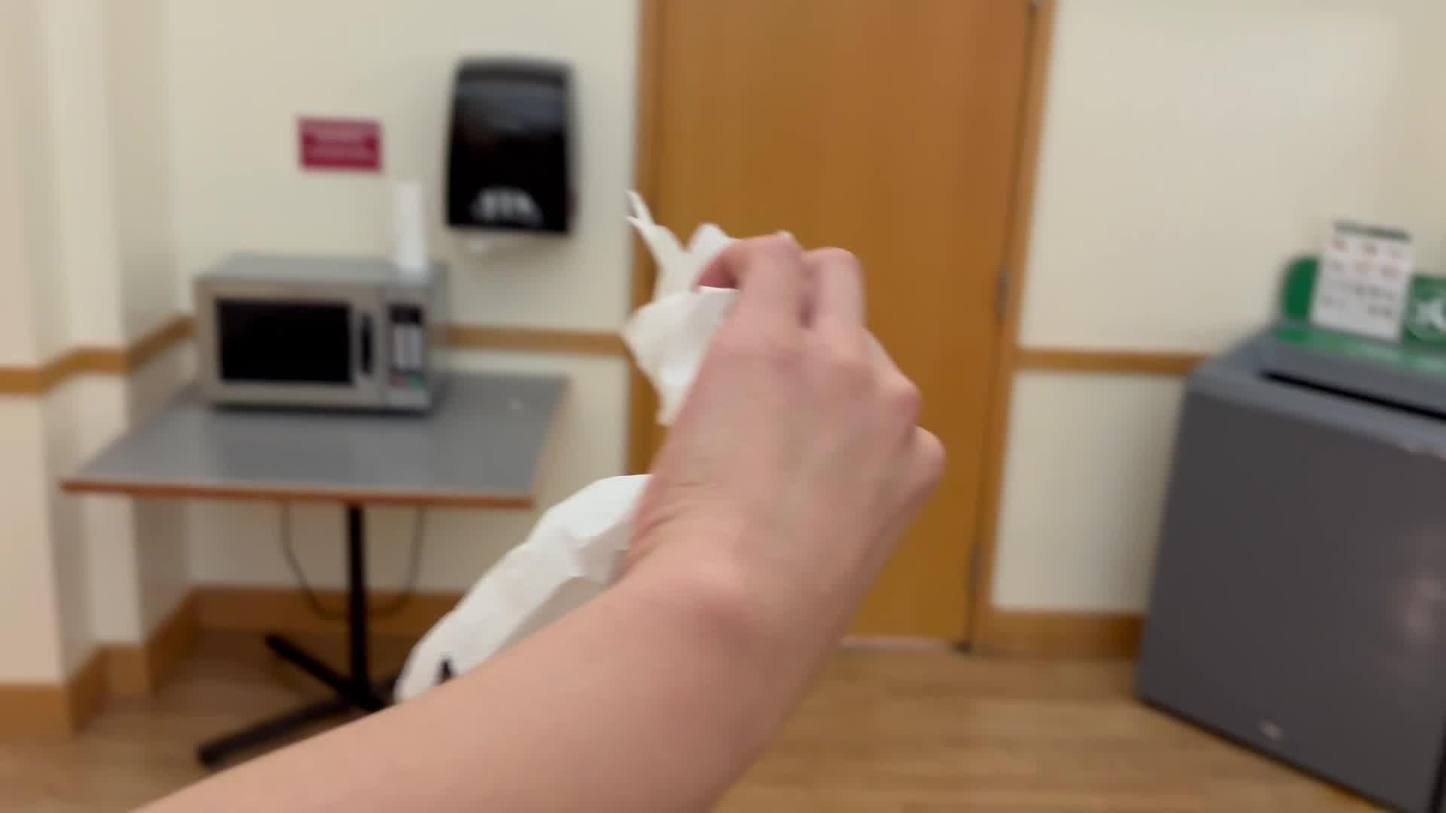napkin: (612, 199, 938, 520)
